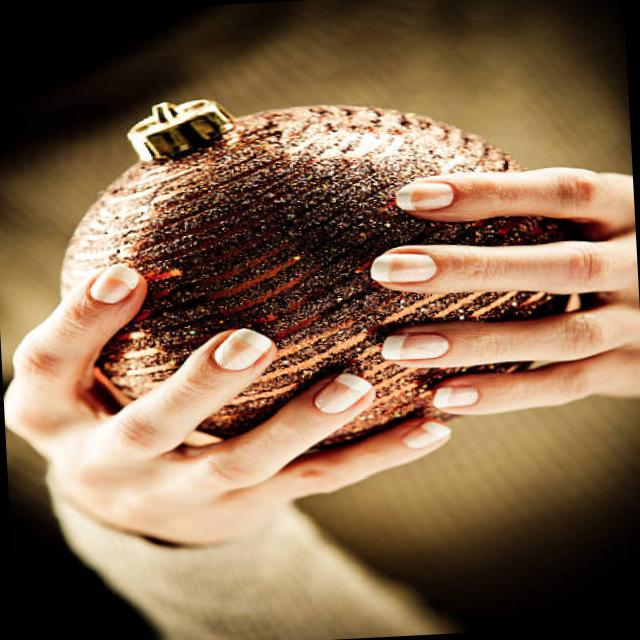Nail: (214, 329, 273, 371), (313, 374, 373, 414), (90, 264, 140, 304), (370, 254, 436, 283), (382, 334, 450, 360), (395, 182, 455, 211), (402, 420, 452, 449), (434, 386, 479, 409)
